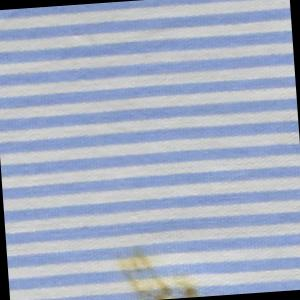Oil Stain: (109, 237, 209, 300)
